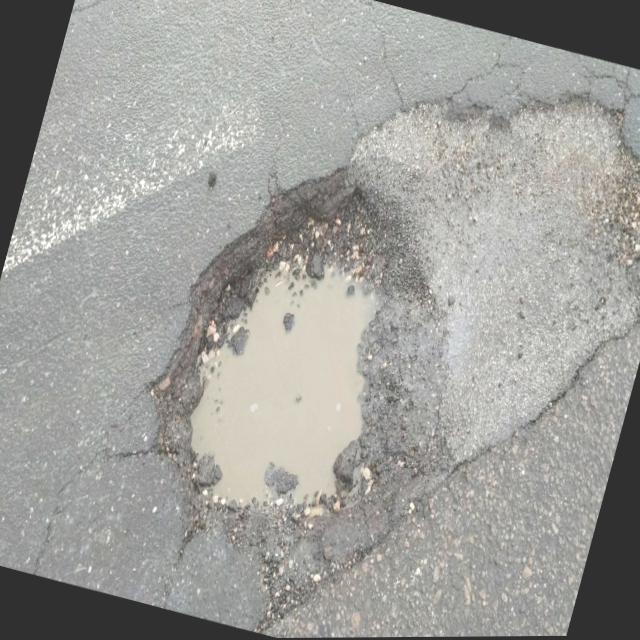Pothole: (147, 97, 640, 622)
